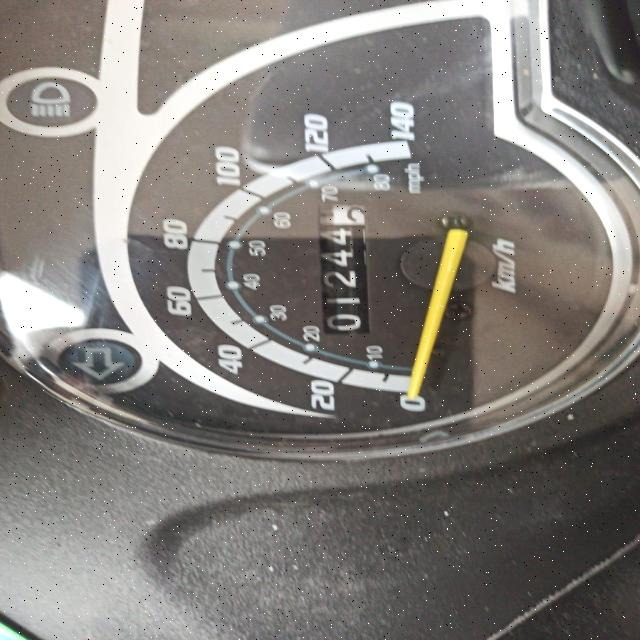odometer: (314, 200, 381, 334)
